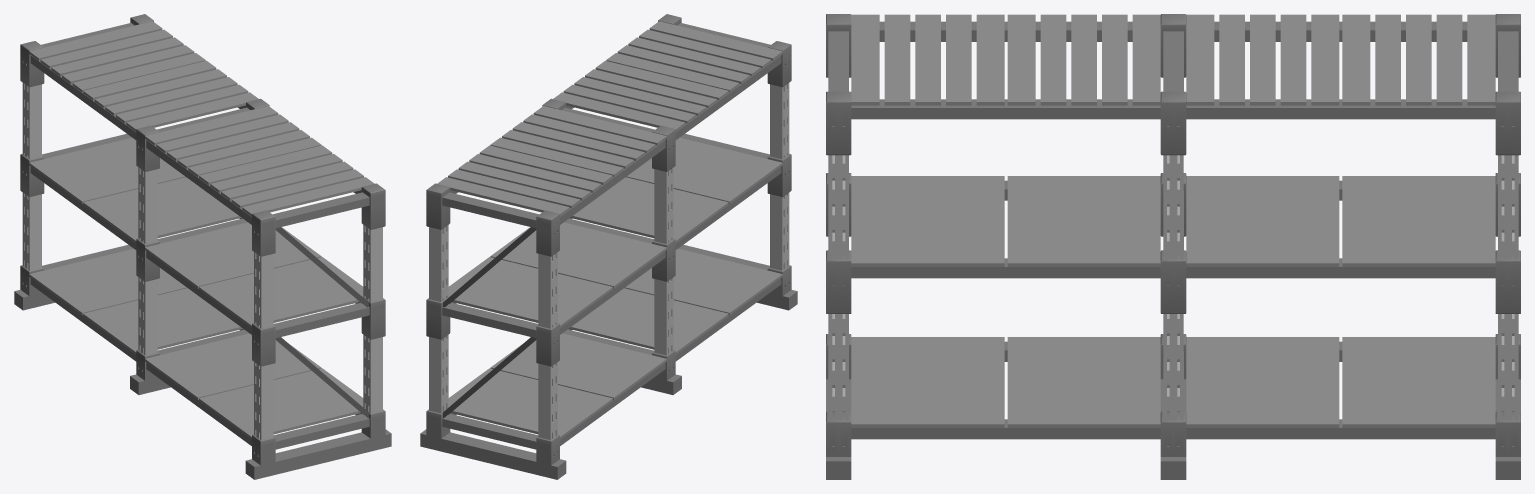
File: Shelf_05.glb
3 renders of one model, left to right at view 1: azimuth 30°, elevation 25°; view 2: azimuth 150°, elevation 25°; view 3: azimuth 270°, elevation 25°, orthographic. The views are drawn at different scales.
Visible parts, largest first — view 1: Mesh_Shelf_05; view 2: Mesh_Shelf_05; view 3: Mesh_Shelf_05.
Part boxes in pixels (<box>): Mesh_Shelf_05: <box>14,14,391,479</box>; Mesh_Shelf_05: <box>420,14,797,479</box>; Mesh_Shelf_05: <box>826,14,1520,479</box>.
Bounding box in the file's own units: 1.11 × 2 × 3.37.
Materials: 1 (1 with a texture image).
